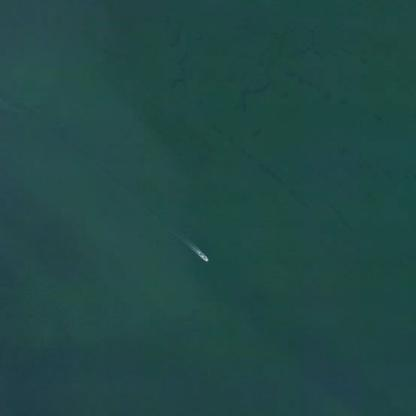ship: (190, 243, 216, 270)
